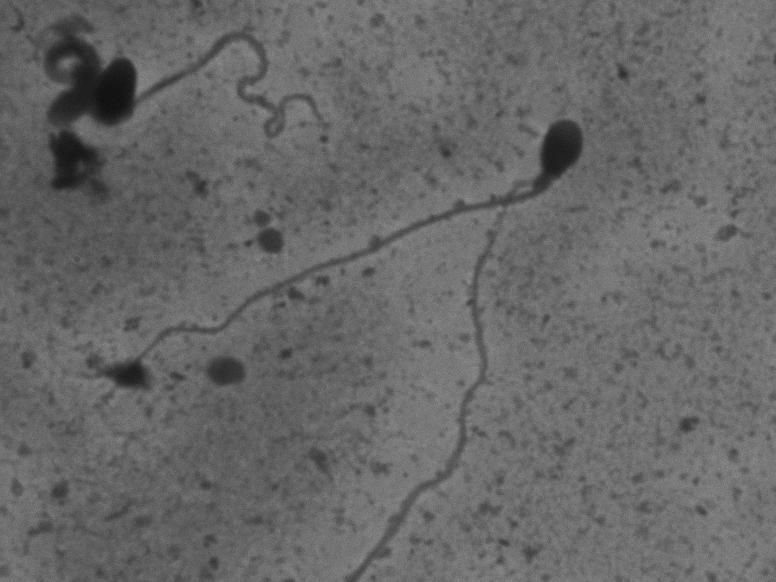Abnormal: (91, 15, 330, 183)
Normal: (97, 108, 595, 418)
